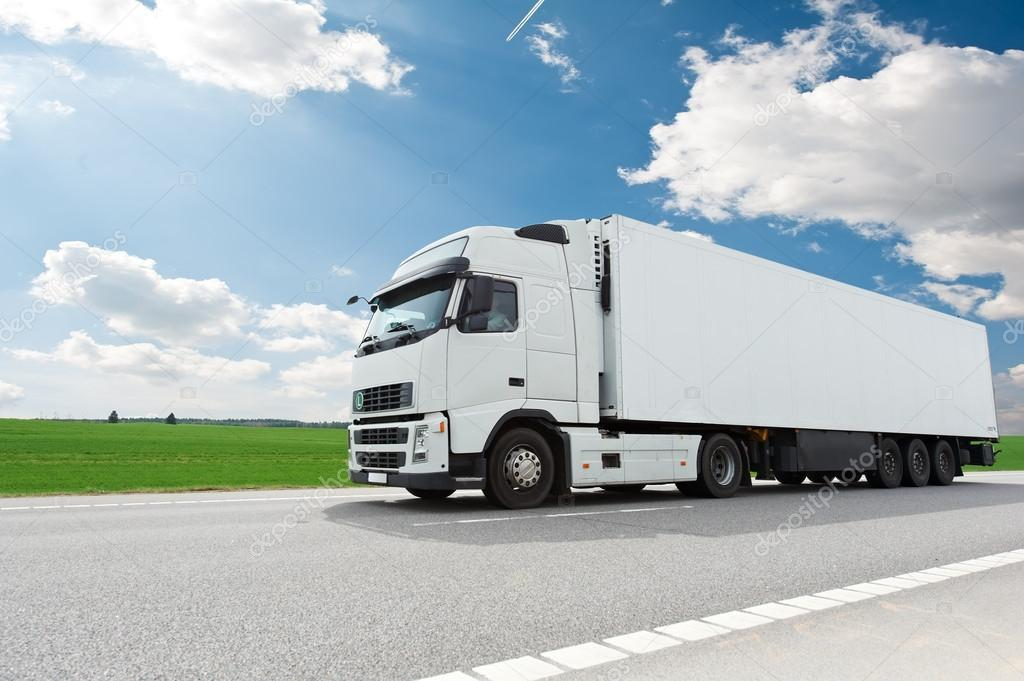truck: (345, 213, 1001, 509)
